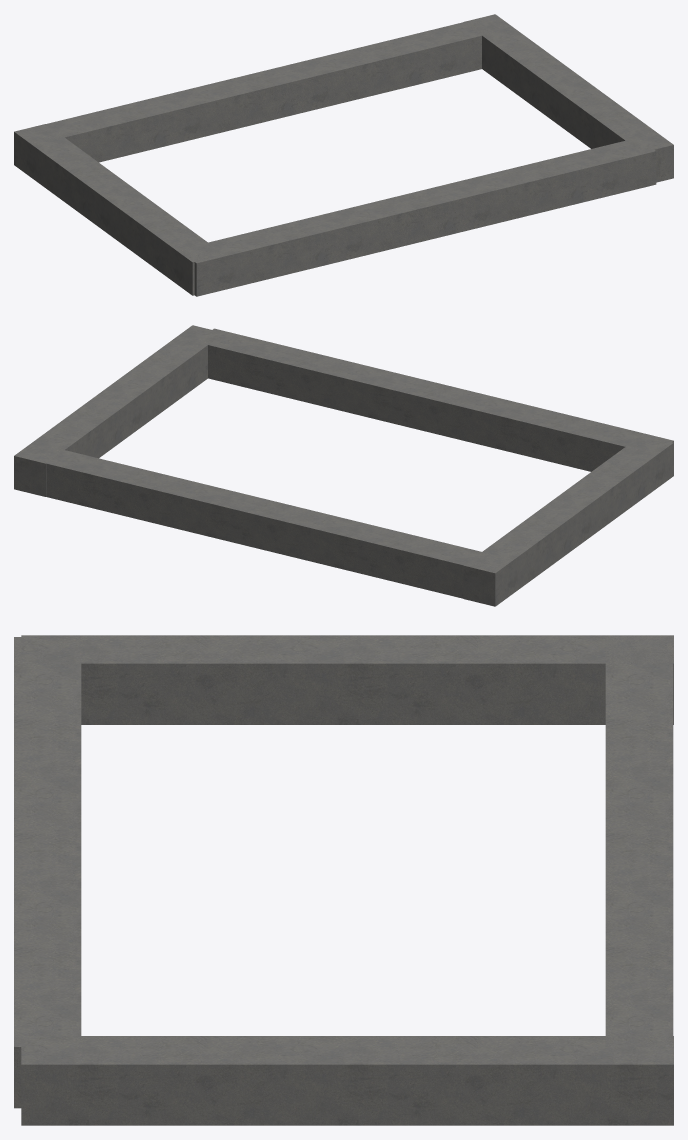
The model's file is pillarframe1.fbx.
3 views of the same model, one above another, from view 1: azimuth 30°, elevation 25°; view 2: azimuth 150°, elevation 25°; view 3: azimuth 270°, elevation 25° (orthographic). The views are drawn at different scales.
Parts seen in each view (by area): view 1: Cube.020; view 2: Cube.020; view 3: Cube.020.
Part boxes in pixels (box(x1,y1,x2,y2)): Cube.020: box(14, 14, 673, 296); Cube.020: box(14, 325, 673, 606); Cube.020: box(14, 635, 673, 1125).
Bounding box in the file's own units: 753 × 50 × 490.
Materials: 1 (1 with a texture image).
